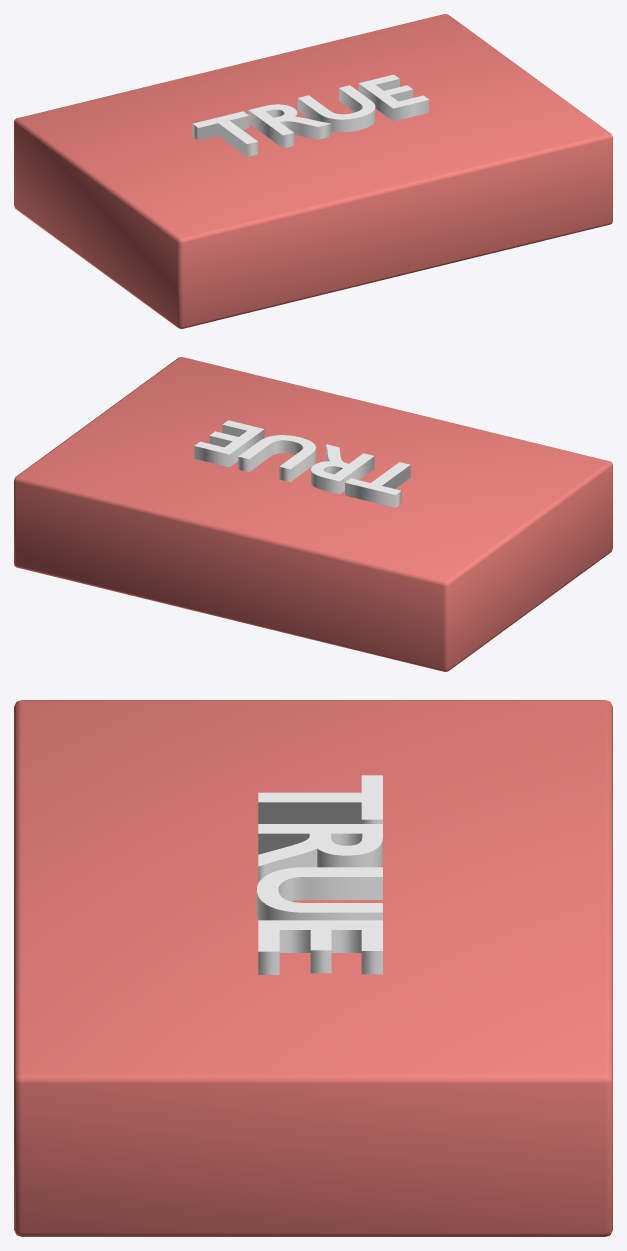
The model's file is true.fbx.
The picture shows the model from 3 angles, top to bottom: view 1: azimuth 30°, elevation 25°; view 2: azimuth 150°, elevation 25°; view 3: azimuth 270°, elevation 25°; orthographic projection. The views are drawn at different scales.
Visible parts, largest first — view 1: True_Base, True_Text; view 2: True_Base, True_Text; view 3: True_Base, True_Text.
Part boxes in pixels (box(x1,y1,x2,y2)): True_Base: box(14, 14, 612, 328); True_Text: box(192, 74, 429, 156); True_Base: box(14, 357, 612, 671); True_Text: box(194, 420, 410, 507); True_Base: box(14, 700, 612, 1236); True_Text: box(256, 775, 382, 974).
Size of the model in its own units: 300 by 68.5 by 200.
